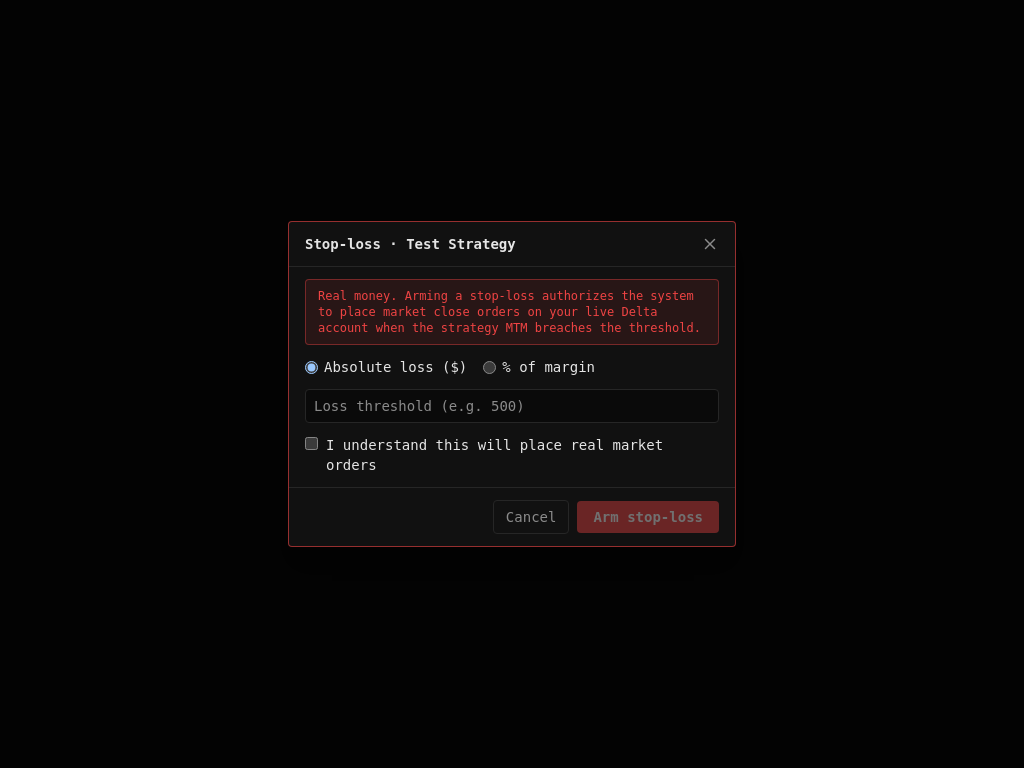
Scenario: StopLossDialog › disables the confirm button until the understand checkbox is checked
This screenshot has width=1024, height=768.
Note: A valid threshold alone is not enough — still disabled without the ack.
Type "500" into the number field with test id "sl-threshold-abs" at (512, 406), box [305,389,719,423]
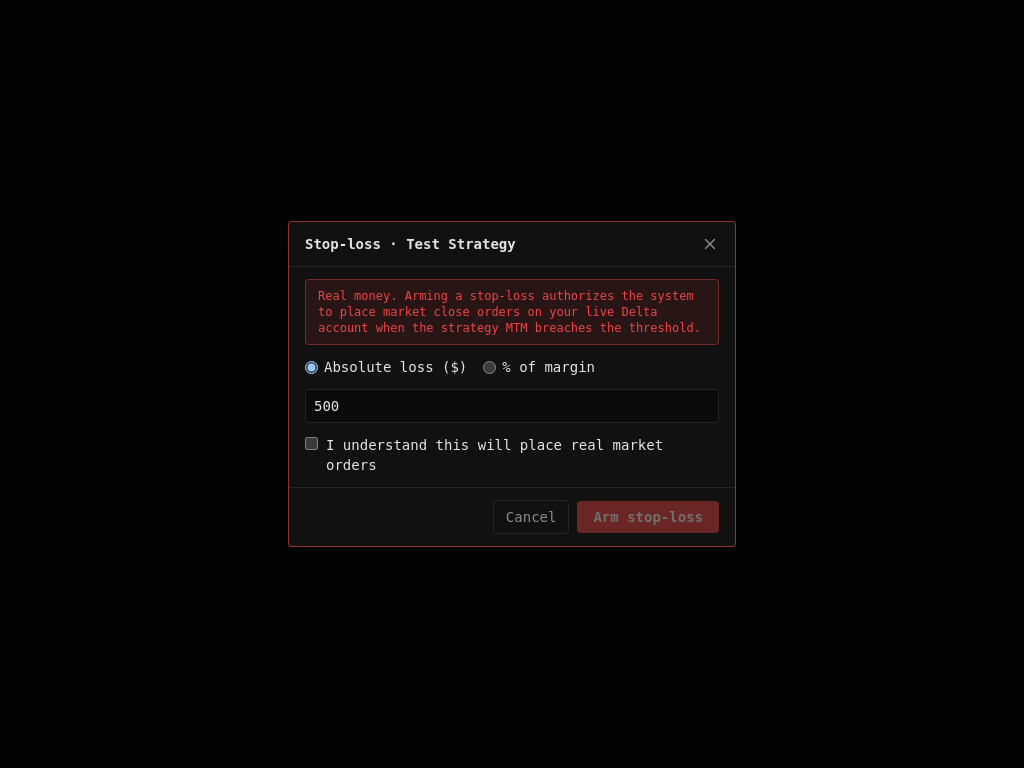
Expected: the button with test id "sl-confirm-btn" is disabled, [577,501,719,533]
Note: Checking the ack with a valid threshold enables it.
Click the checkbox with test id "sl-understand-checkbox" at (312, 444), box [305,437,318,450]
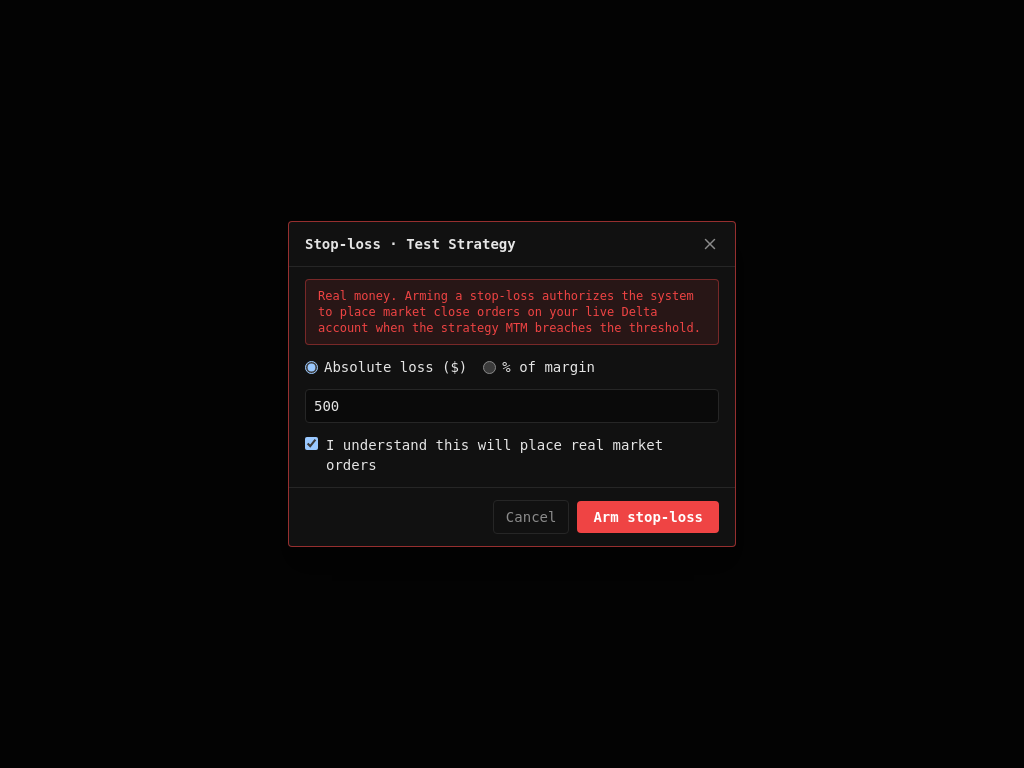
Expected: the checkbox with test id "sl-understand-checkbox" is checked
Expected: the button with test id "sl-confirm-btn" is enabled, [577,501,719,533]
Note: Un-checking disables it again.
Click the checkbox with test id "sl-understand-checkbox" at (312, 444), box [305,437,318,450]
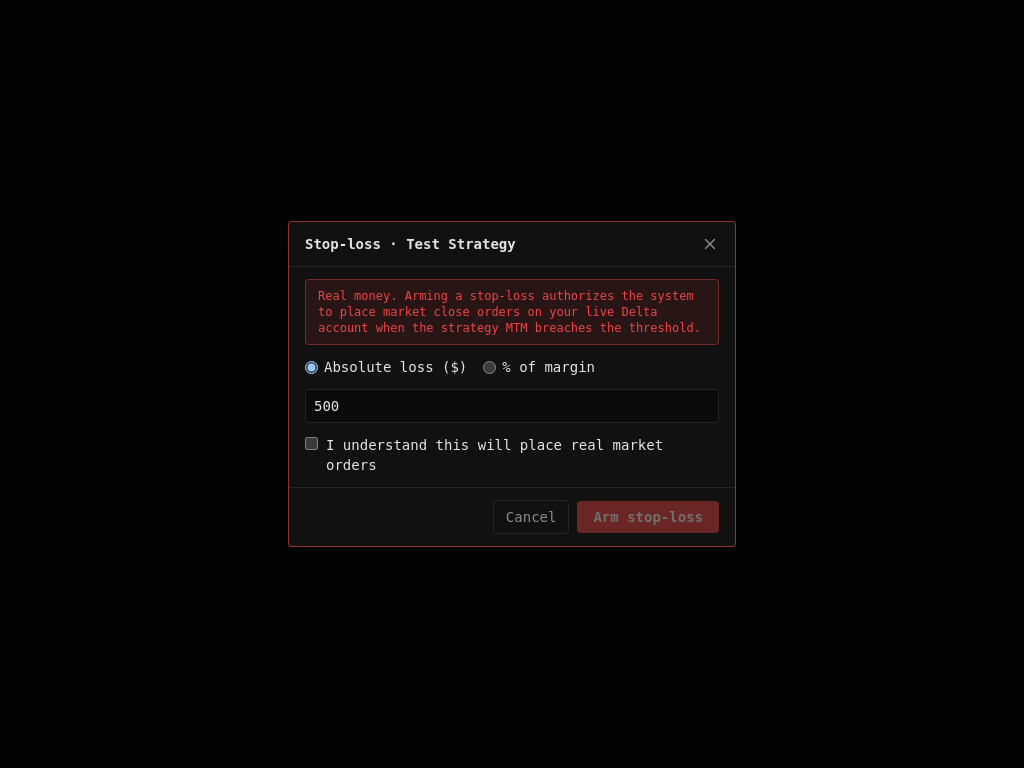
Expected: the button with test id "sl-confirm-btn" is disabled, [577,501,719,533]
